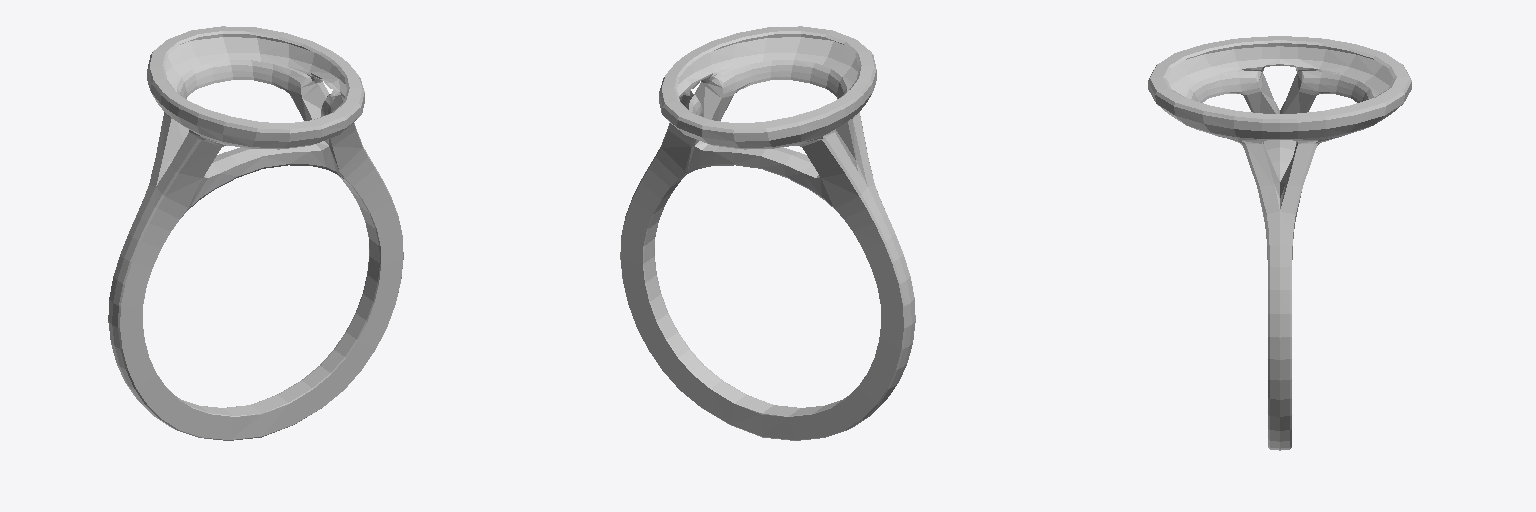
File: comb_blueRing_base.obj
The picture shows the model from 3 angles: view 1: azimuth 30°, elevation 25°; view 2: azimuth 150°, elevation 25°; view 3: azimuth 270°, elevation 25°; orthographic projection.
Parts seen in each view (by area): view 1: ringBase:group2 ringBase:pPipe1 ringBase:polySurface67 silverRin; view 2: ringBase:group2 ringBase:pPipe1 ringBase:polySurface67 silverRin; view 3: ringBase:group2 ringBase:pPipe1 ringBase:polySurface67 silverRin.
Part boxes in pixels (left/top/right/bottom): ringBase:group2 ringBase:pPipe1 ringBase:polySurface67 silverRin: left=108, top=26, right=403, bottom=440; ringBase:group2 ringBase:pPipe1 ringBase:polySurface67 silverRin: left=620, top=26, right=915, bottom=440; ringBase:group2 ringBase:pPipe1 ringBase:polySurface67 silverRin: left=1148, top=36, right=1411, bottom=450.
Size of the model in its own units: 29.14 by 34.7 by 23.2.